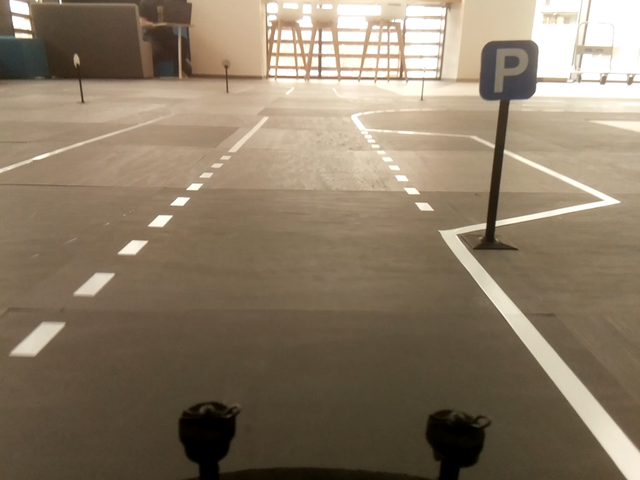parking: (478, 40, 539, 100)
